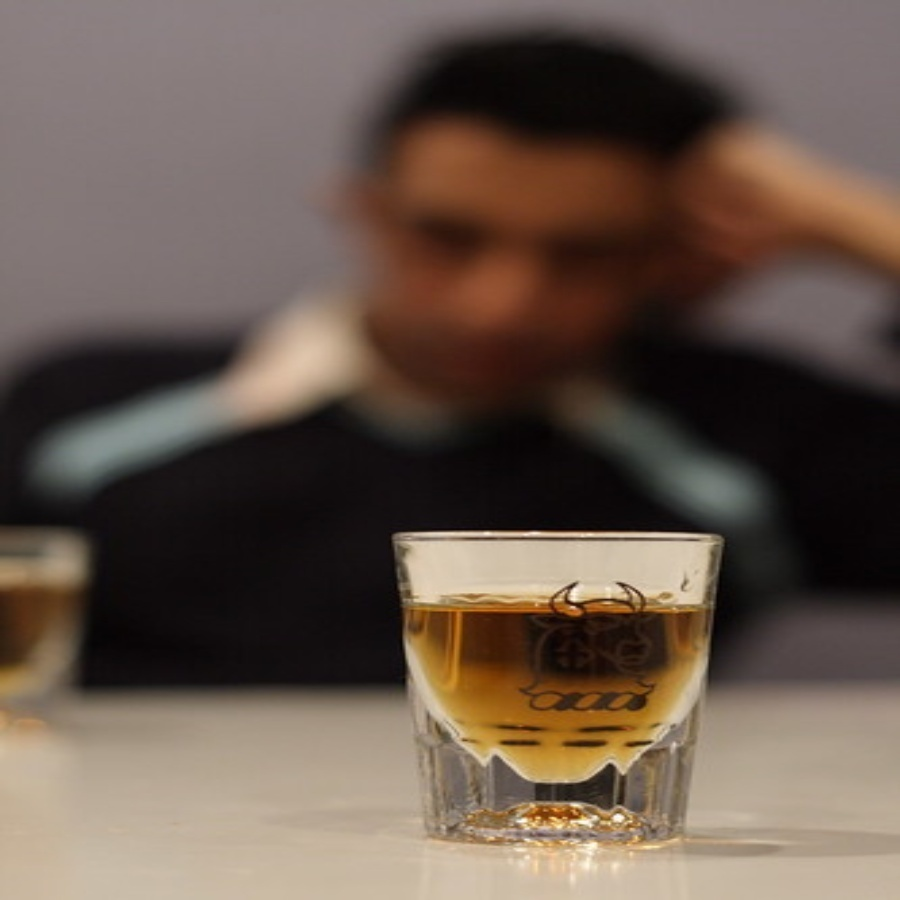whiskey: (379, 532, 730, 841)
